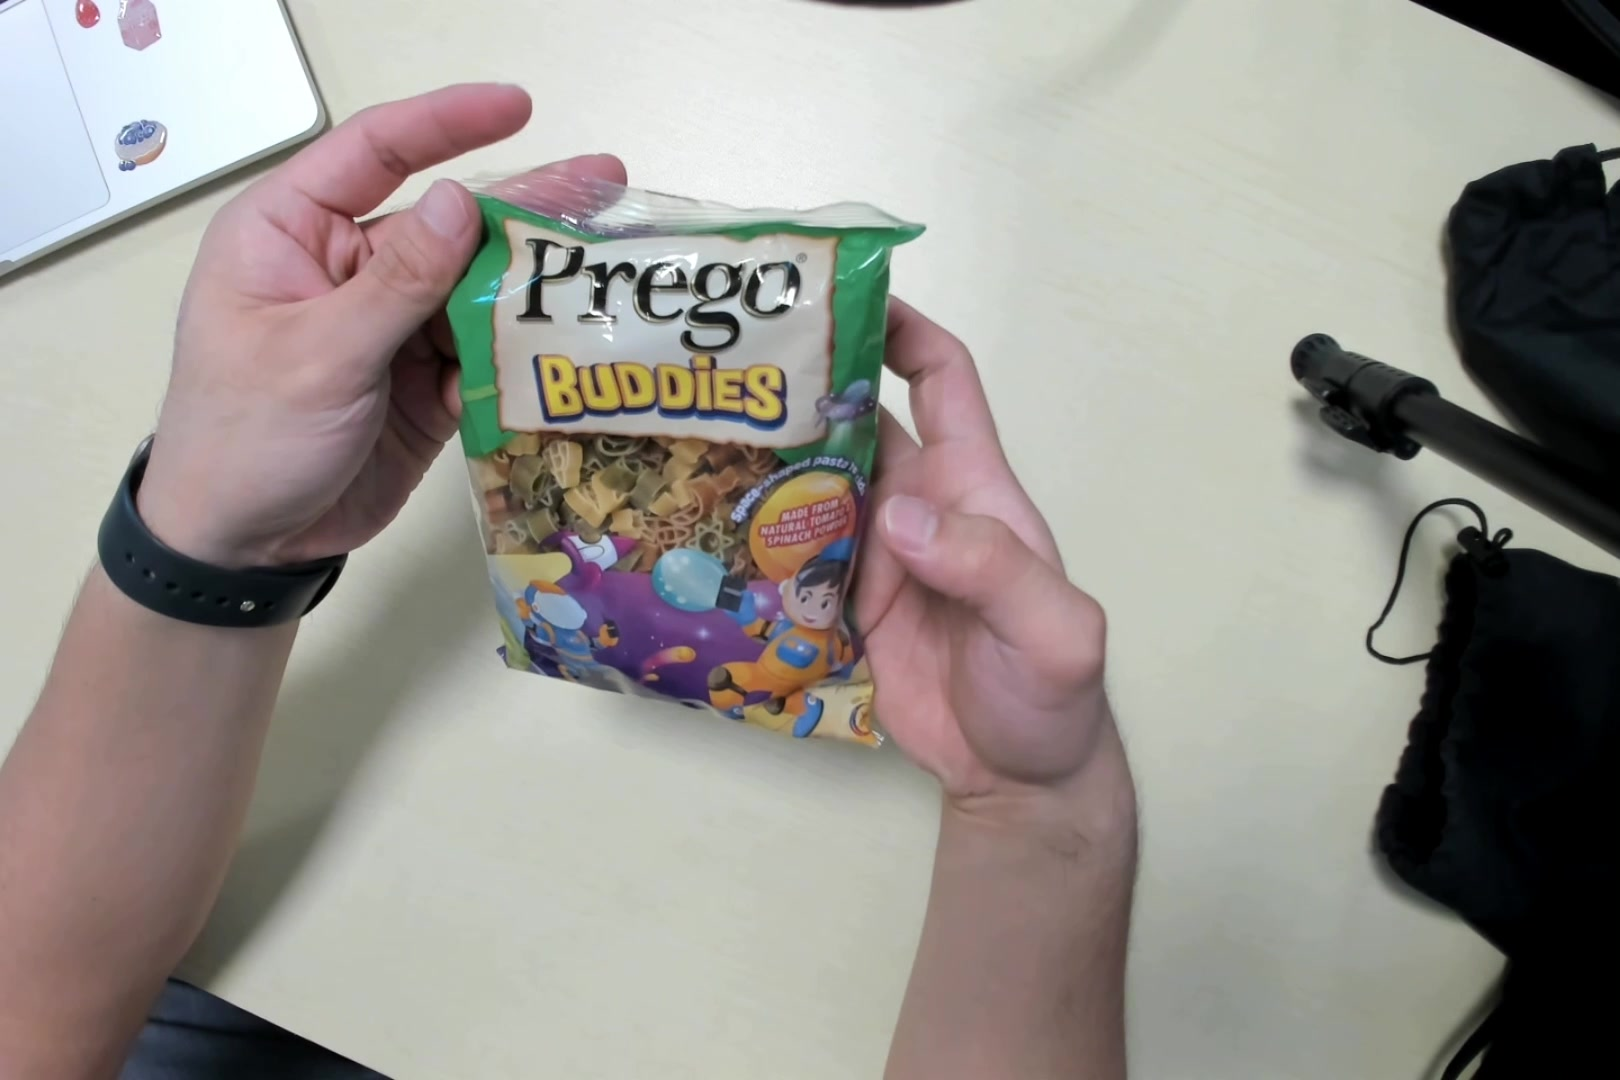Pasta_200-299g_Halal_NonHealthy: (454, 210, 877, 745)
